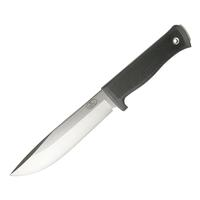knife: (7, 20, 187, 183)
